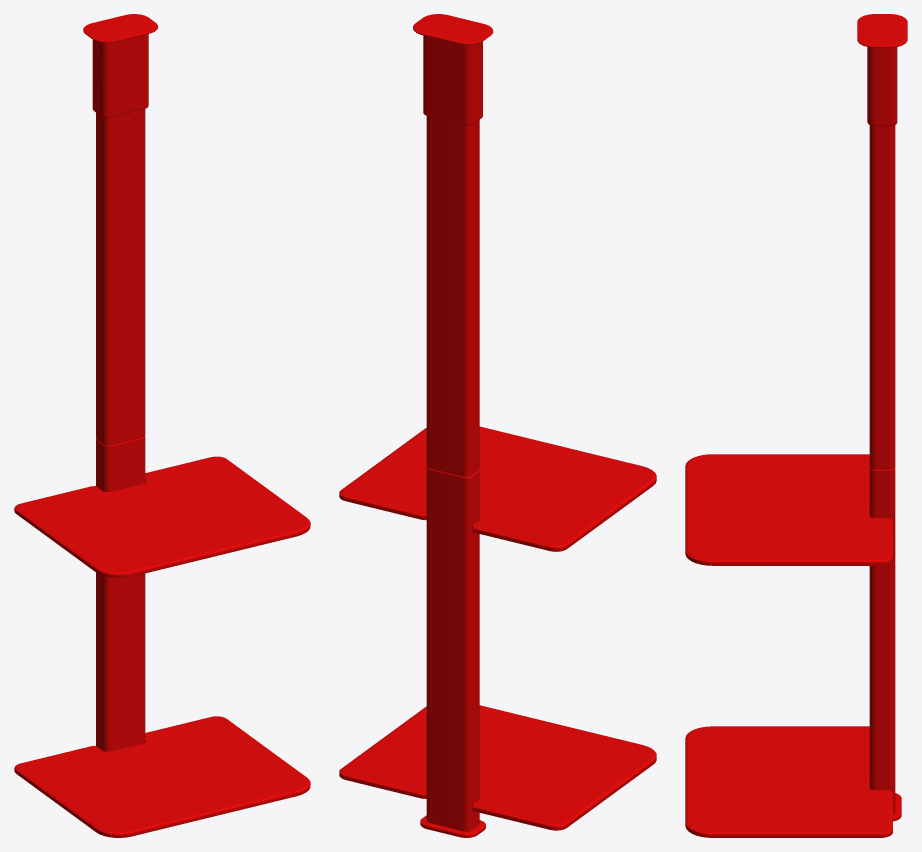
The model's file is Medical_shelf_4.fbx.
3 renders of one model, left to right at view 1: azimuth 30°, elevation 25°; view 2: azimuth 150°, elevation 25°; view 3: azimuth 270°, elevation 25°, orthographic. The views are drawn at different scales.
Parts seen in each view (by area): view 1: L9:pCube325; view 2: L9:pCube325; view 3: L9:pCube325.
Boxes of the visible parts, x1,y1,x2,y2 form: L9:pCube325: (14, 14, 310, 837); L9:pCube325: (339, 14, 656, 837); L9:pCube325: (685, 14, 907, 837).
Size of the model in its own units: 83.05 by 280 by 72.27.
